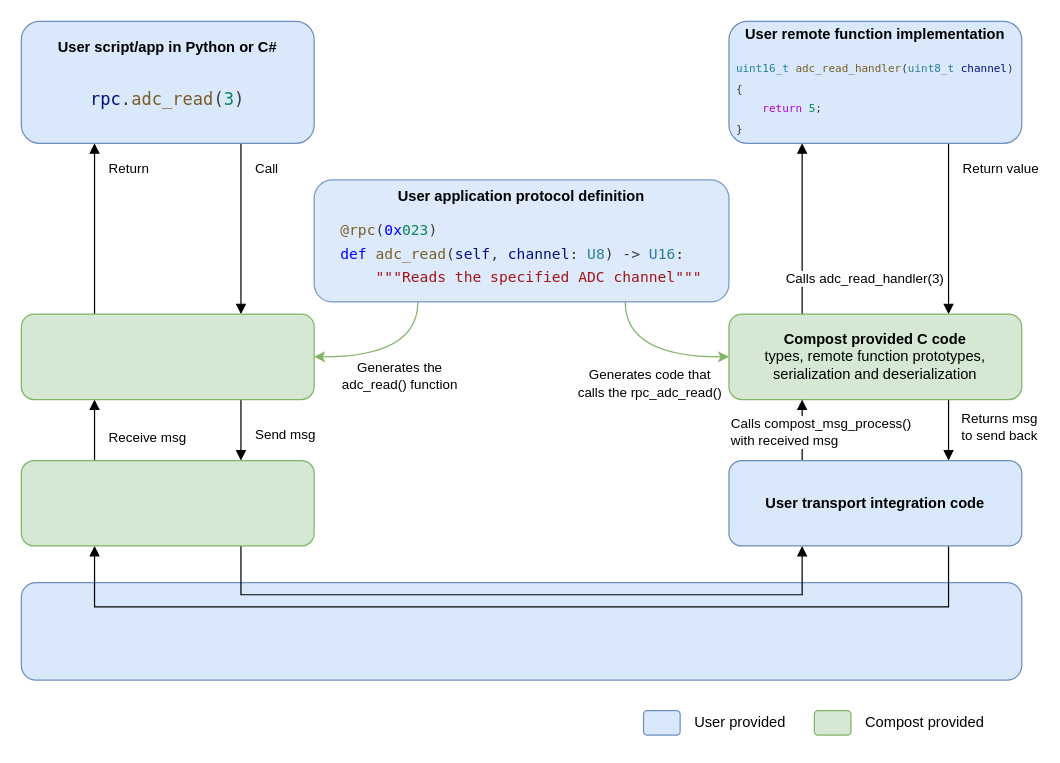
The diagram is 1060 pixels wide and 763 high, and some of its shapes have lost their labels. Each missing label, with the centre of its shape:
"Compost provided transport or custom UdpTransport(ip_address, target_port)" belongs at pixel 167 502.
"Compost Python or C# client" belongs at pixel 167 356.
"Transport layer UART, UDP/IP, raw Ethernet or other" belongs at pixel 521 630.
